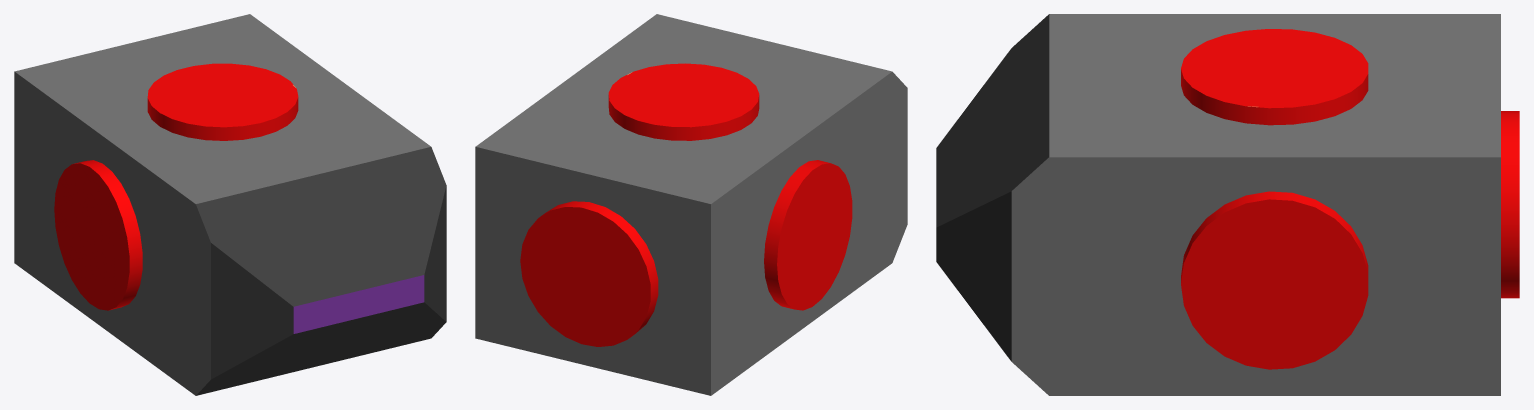
Rendered from TankySlopeBody.fbx.
The picture shows the model from 3 angles, left to right: view 1: azimuth 30°, elevation 25°; view 2: azimuth 150°, elevation 25°; view 3: azimuth 270°, elevation 25°; orthographic projection. The views are drawn at different scales.
Visible parts, largest first — view 1: SlopeBody v2; view 2: SlopeBody v2; view 3: SlopeBody v2.
Boxes of the visible parts, <box> form: SlopeBody v2: <box>14,14,446,395</box>; SlopeBody v2: <box>475,14,907,395</box>; SlopeBody v2: <box>936,14,1519,395</box>.
Bounding box in the file's own units: 100 × 75 × 155.
